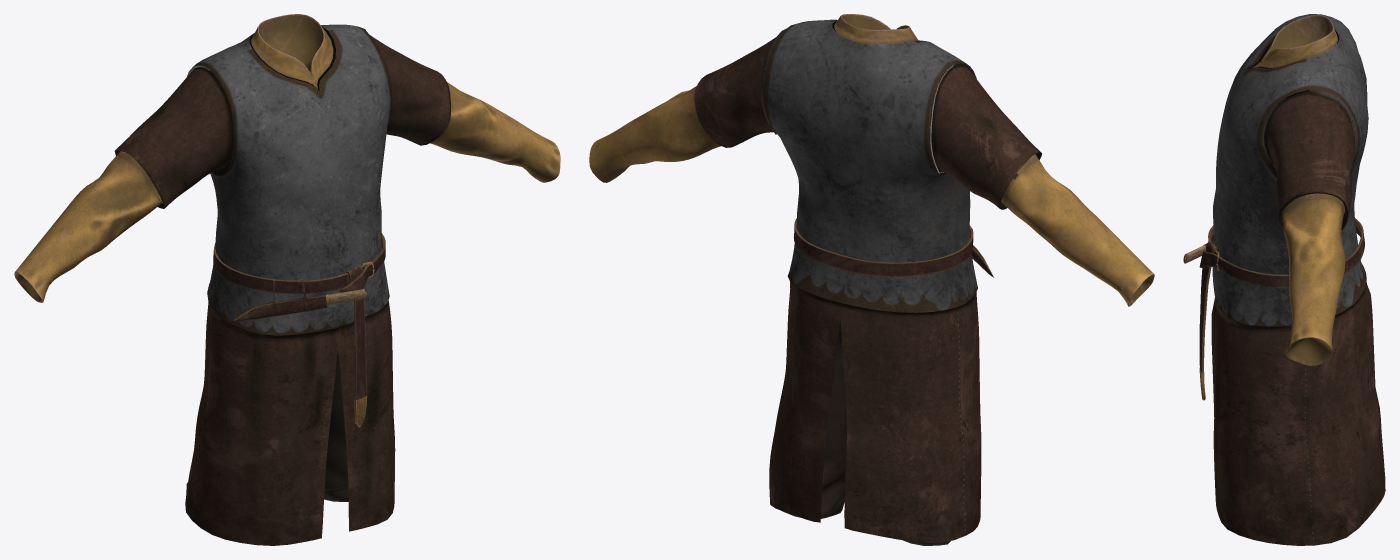
File: cts_rohan_armor222.fbx
The picture shows the model from 3 angles, left to right: view 1: azimuth 30°, elevation 25°; view 2: azimuth 150°, elevation 25°; view 3: azimuth 270°, elevation 25°; orthographic projection. The views are drawn at different scales.
Parts seen in each view (by area): view 1: cts_rohan_armor222; view 2: cts_rohan_armor222; view 3: cts_rohan_armor222.
Boxes of the visible parts, x1,y1,x2,y2 form: cts_rohan_armor222: [14, 14, 560, 545]; cts_rohan_armor222: [589, 14, 1154, 545]; cts_rohan_armor222: [1183, 14, 1385, 545].
Size of the model in its own units: 1.38 by 0.4543 by 1.18.
1 material, 1 textured.
